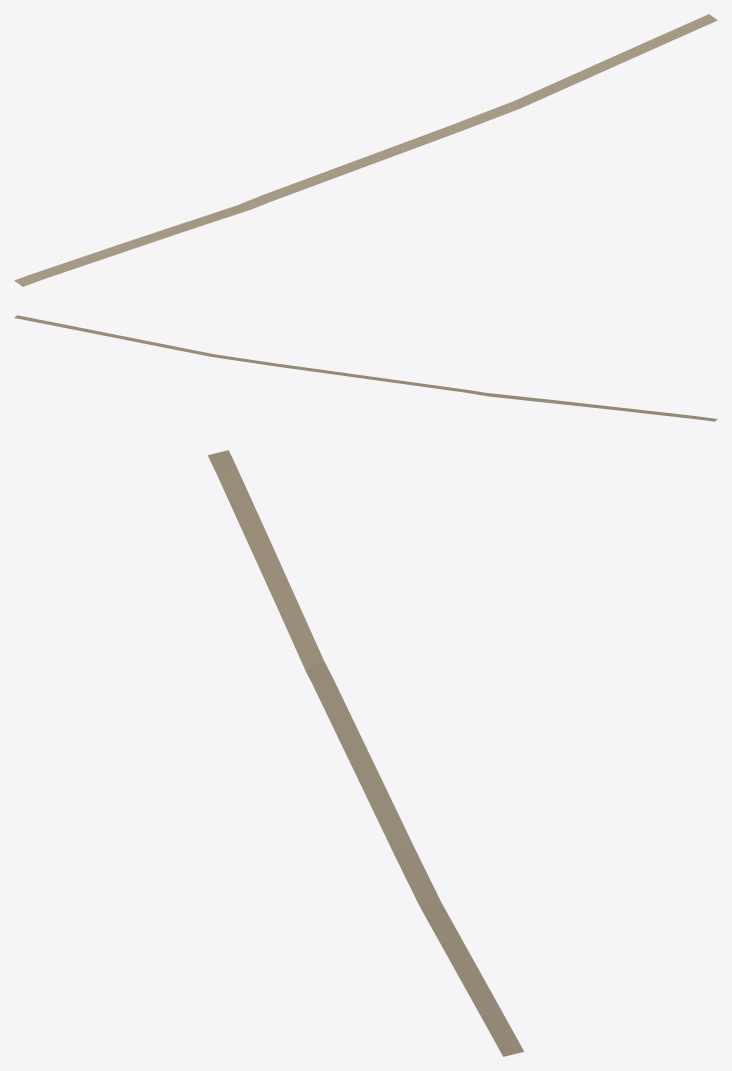
File: farm_-36_-35_track.glb
The picture shows the model from 3 angles, top to bottom: view 1: azimuth 30°, elevation 25°; view 2: azimuth 150°, elevation 25°; view 3: azimuth 270°, elevation 25°; orthographic projection. The views are drawn at different scales.
Parts seen in each view (by area): view 1: geometry_0; view 2: geometry_0; view 3: geometry_0.
Part boxes in pixels (x1,y1,x2,y2): geometry_0: [14, 14, 717, 286]; geometry_0: [14, 315, 717, 421]; geometry_0: [208, 450, 524, 1056].
Size of the model in its own units: 222 by 4.49 by 48.35.
